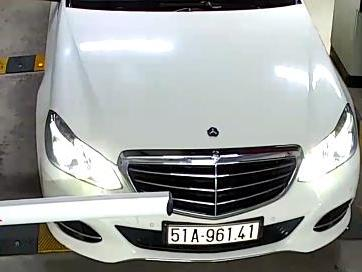number: (166, 220, 259, 244)
